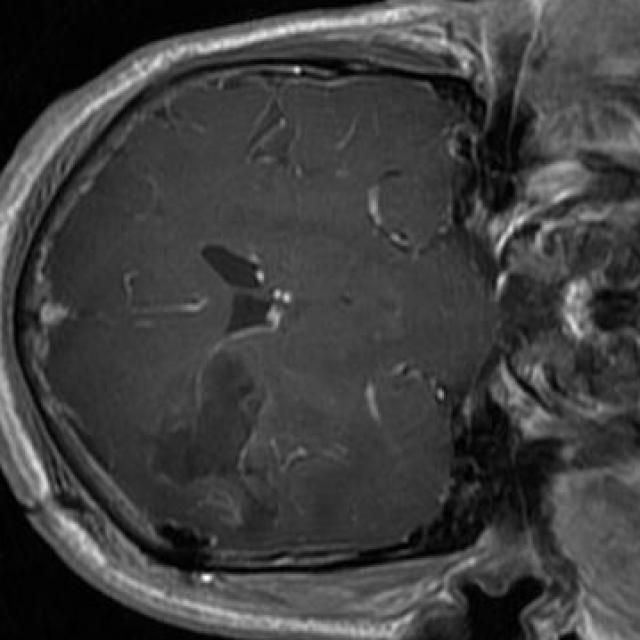glioma: (143, 342, 321, 529)
